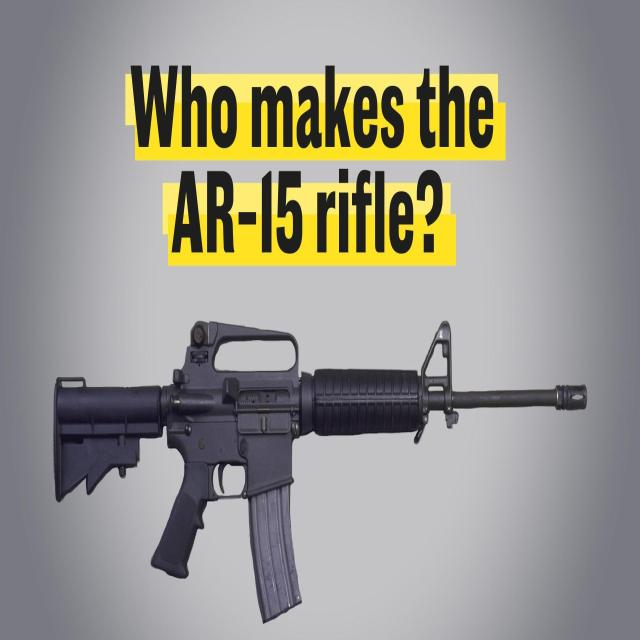weapon: (35, 313, 612, 627)
